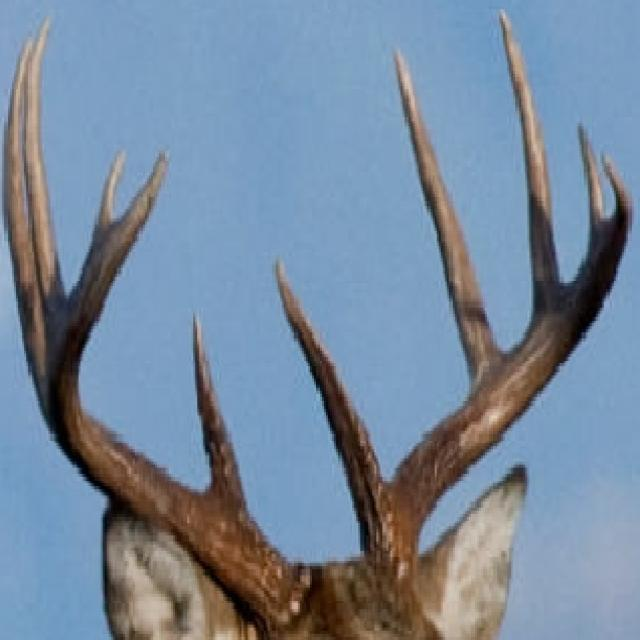E1: (88, 146, 130, 250)
L-G1: (276, 258, 391, 539)
L-G2: (395, 50, 499, 396)
L-G3: (499, 11, 562, 327), (22, 13, 68, 355)
R-F: (43, 150, 310, 637)
R-G1: (192, 311, 253, 524)
